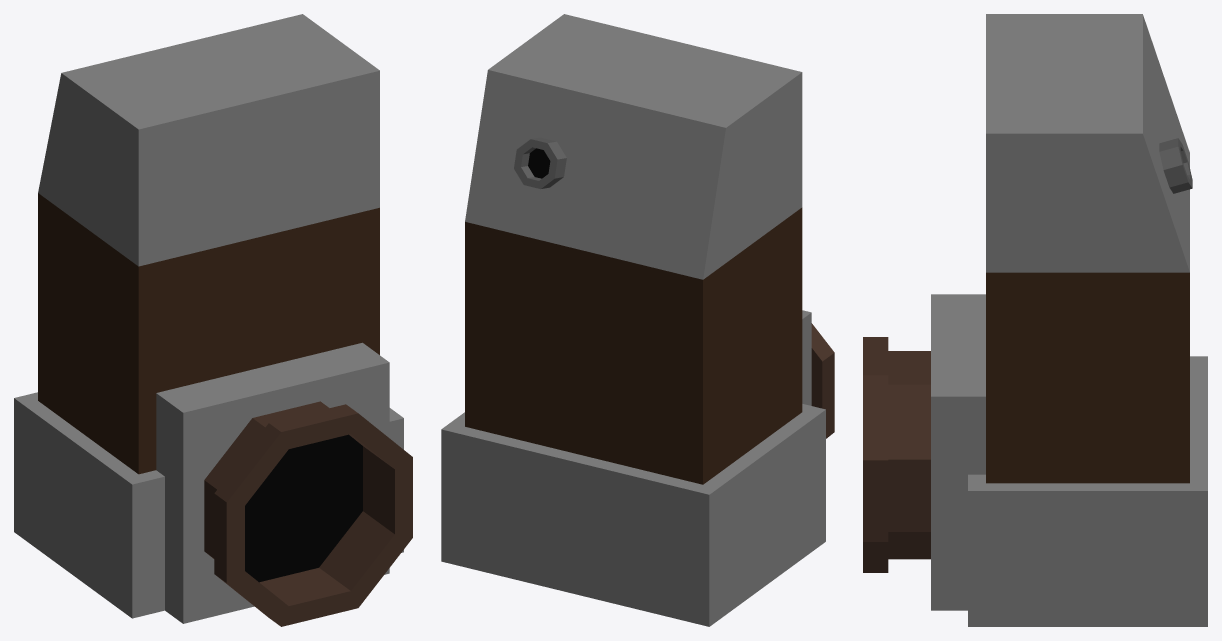
File: PowerTerminal.fbx
The picture shows the model from 3 angles, left to right: view 1: azimuth 30°, elevation 25°; view 2: azimuth 150°, elevation 25°; view 3: azimuth 270°, elevation 25°; orthographic projection. The views are drawn at different scales.
Visible parts, largest first — view 1: Cube.049, Cylinder.038; view 2: Cube.049, Cube.041, Cylinder.038; view 3: Cube.049, Cylinder.038, Cube.041.
Part boxes in pixels (left/top/right/bottom): Cube.049: left=14, top=14, right=403, bottom=623; Cylinder.038: left=204, top=401, right=412, bottom=626; Cube.049: left=441, top=14, right=825, bottom=626; Cube.041: left=514, top=137, right=566, bottom=188; Cylinder.038: left=811, top=323, right=834, bottom=438; Cube.049: left=931, top=14, right=1207, bottom=626; Cylinder.038: left=863, top=337, right=930, bottom=572; Cube.041: left=1159, top=138, right=1192, bottom=193.
Size of the model in its own units: 53.62 by 90.23 by 58.01.
